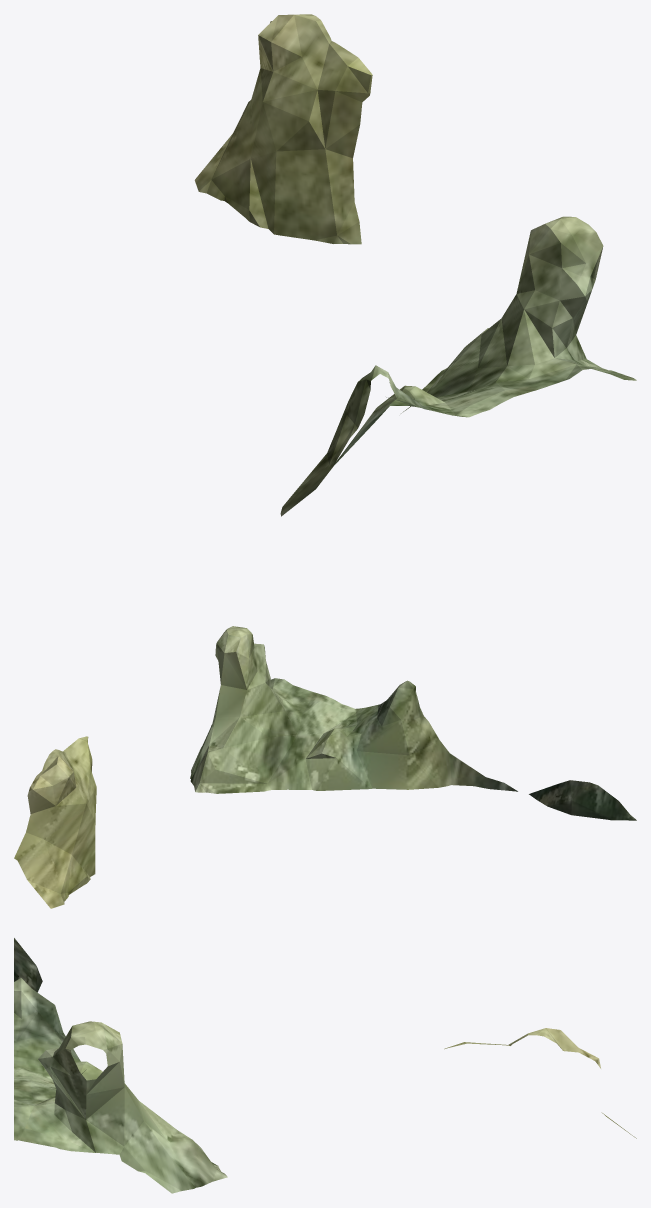
The picture shows the model from 3 angles, top to bottom: view 1: azimuth 30°, elevation 25°; view 2: azimuth 150°, elevation 25°; view 3: azimuth 270°, elevation 25°; orthographic projection. The views are drawn at different scales.
Size of the model in its own units: 5.54 by 1.68 by 5.9.
Materials: 1 (1 with a texture image).
